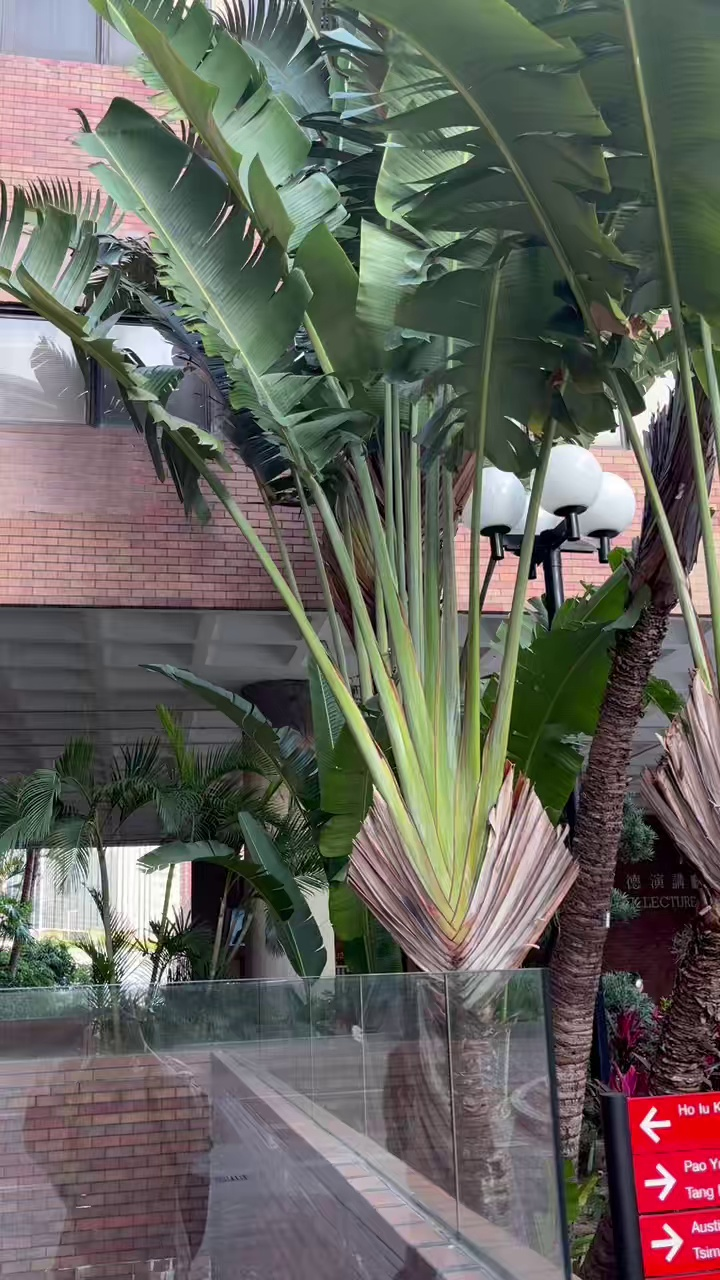Travellers-tree: (79, 0, 603, 1209)
